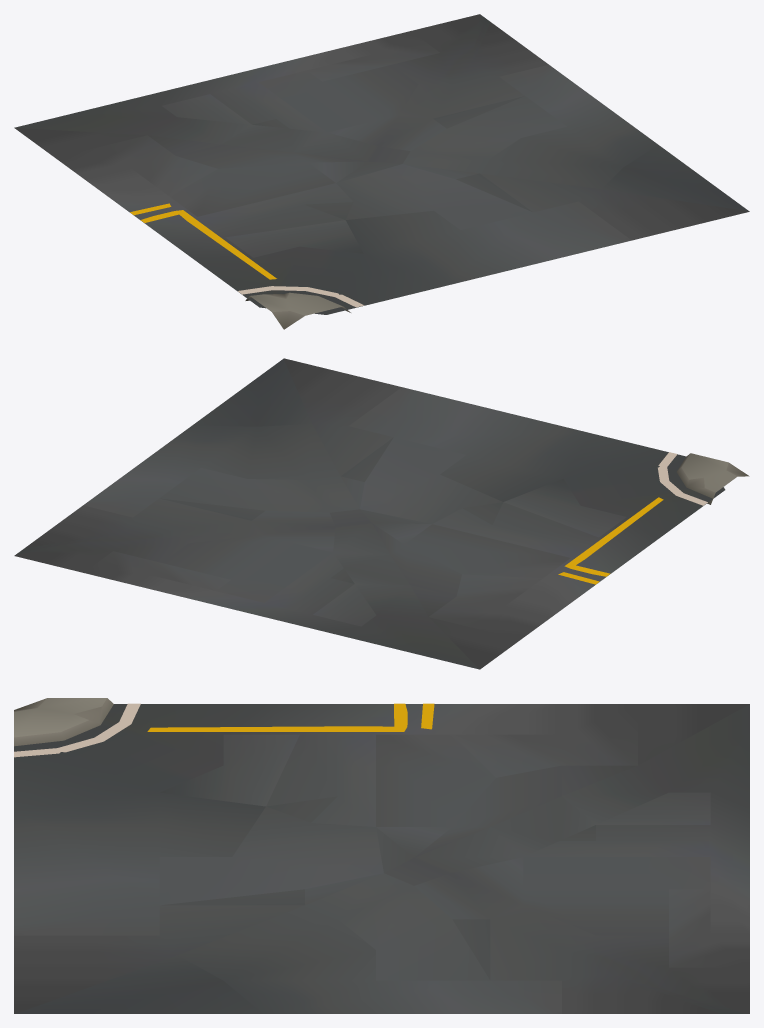
File: DS_Road_Crossing_01A (1)_1.fbx
The picture shows the model from 3 angles, top to bottom: view 1: azimuth 30°, elevation 25°; view 2: azimuth 150°, elevation 25°; view 3: azimuth 270°, elevation 25°; orthographic projection. The views are drawn at different scales.
Visible parts, largest first — view 1: DS_Road_Crossing_01A__1__1; view 2: DS_Road_Crossing_01A__1__1; view 3: DS_Road_Crossing_01A__1__1.
Boxes of the visible parts, left/top/right/bottom form: DS_Road_Crossing_01A__1__1: left=14, top=14, right=749, bottom=329; DS_Road_Crossing_01A__1__1: left=14, top=358, right=749, bottom=669; DS_Road_Crossing_01A__1__1: left=14, top=698, right=749, bottom=1013.
Bounding box in the file's own units: 660 × 12 × 662.
Materials: 1 (1 with a texture image).
